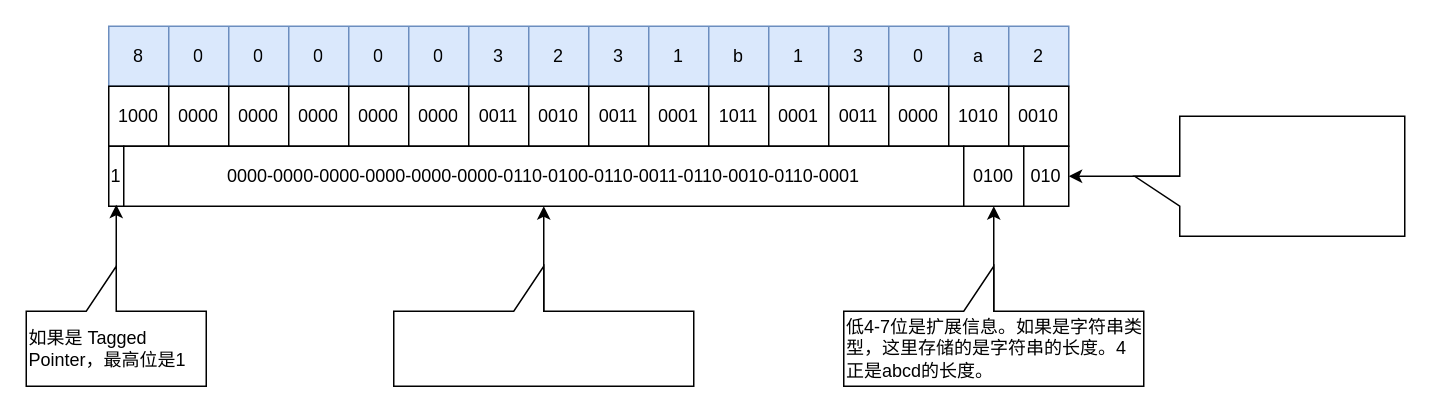
Image size: 1431x413. Some labels were removed from this diagram. The centre of each missing label's shape, as x and y in pixels:
"中间的56位是Payload。每8位一取，从低位到高位依次为97-98-99-100-0-0-0。通过ASCII查询分别对应a-b-c-d" goes at point 543,325.
"这里存储的数据类型。NSString-2; NSNumber-3; NSIndexPath-4; NSDate-6" goes at point 1269,175.
